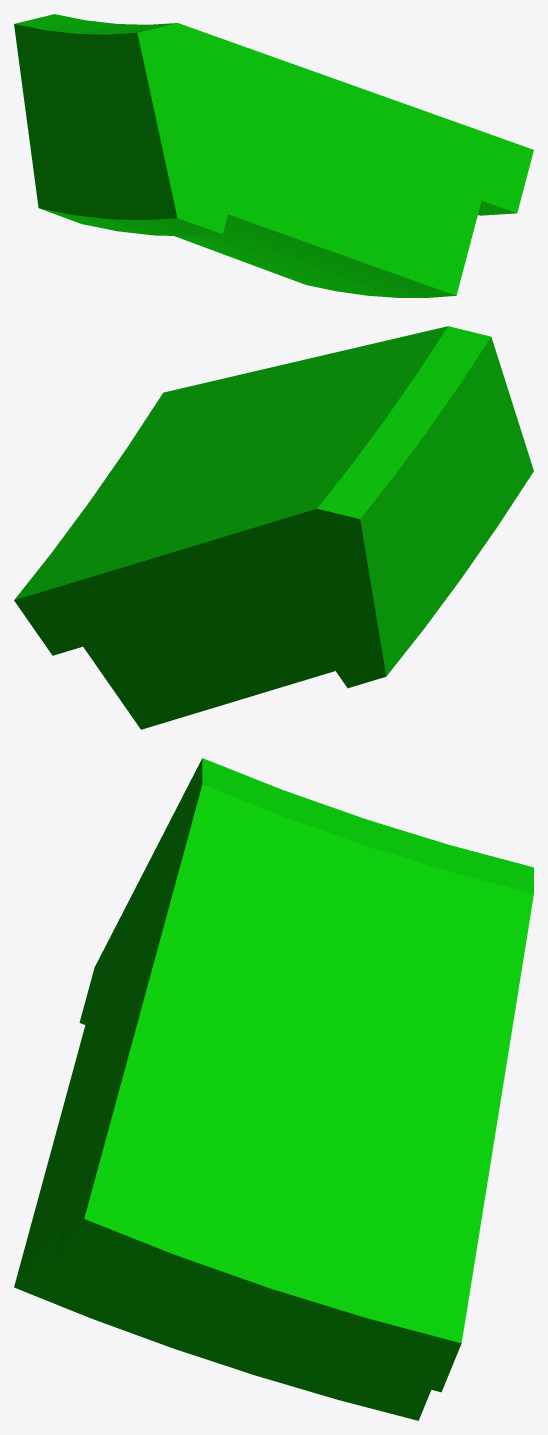
File: noseRing_Block_Sup.dae
The picture shows the model from 3 angles, top to bottom: view 1: azimuth 30°, elevation 25°; view 2: azimuth 150°, elevation 25°; view 3: azimuth 270°, elevation 25°; orthographic projection. The views are drawn at different scales.
Visible parts, largest first — view 1: ShapeIndexedFaceSet_129; view 2: ShapeIndexedFaceSet_129; view 3: ShapeIndexedFaceSet_129.
Boxes of the visible parts, <box> form: ShapeIndexedFaceSet_129: <box>14,14,533,297</box>; ShapeIndexedFaceSet_129: <box>14,326,533,729</box>; ShapeIndexedFaceSet_129: <box>14,758,533,1420</box>.
Bounding box in the file's own units: 0.488 × 0.4638 × 0.4917.
